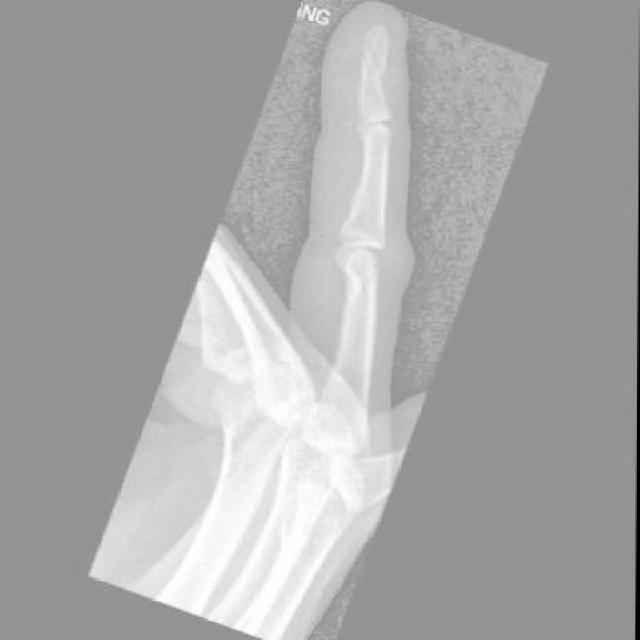Fracture: (346, 44, 391, 88)
